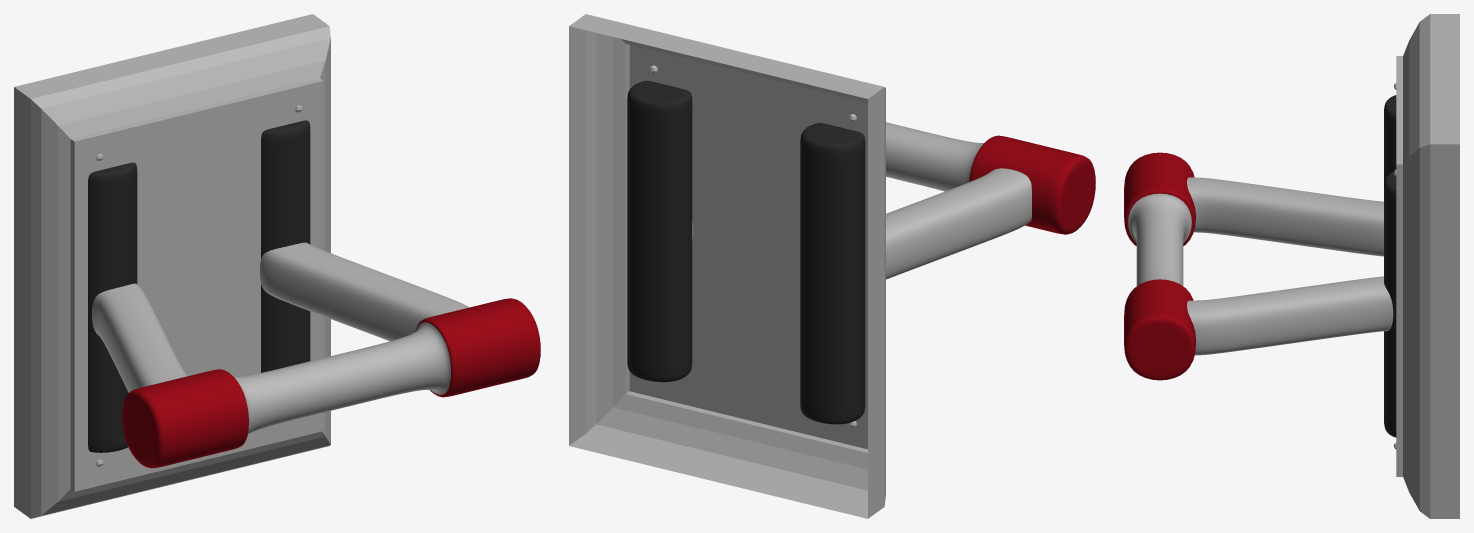
Rendered from Lever.fbx.
3 renders of one model, left to right at view 1: azimuth 30°, elevation 25°; view 2: azimuth 150°, elevation 25°; view 3: azimuth 270°, elevation 25°, orthographic. The views are drawn at different scales.
Parts seen in each view (by area): view 1: Cube.002; view 2: Cube.002; view 3: Cube.002.
Part boxes in pixels (x1=…): Cube.002: x1=14, y1=14, x2=540, y2=518; Cube.002: x1=569, y1=14, x2=1095, y2=518; Cube.002: x1=1124, y1=14, x2=1459, y2=518.
Size of the model in its own units: 1557 by 1630 by 1323.
